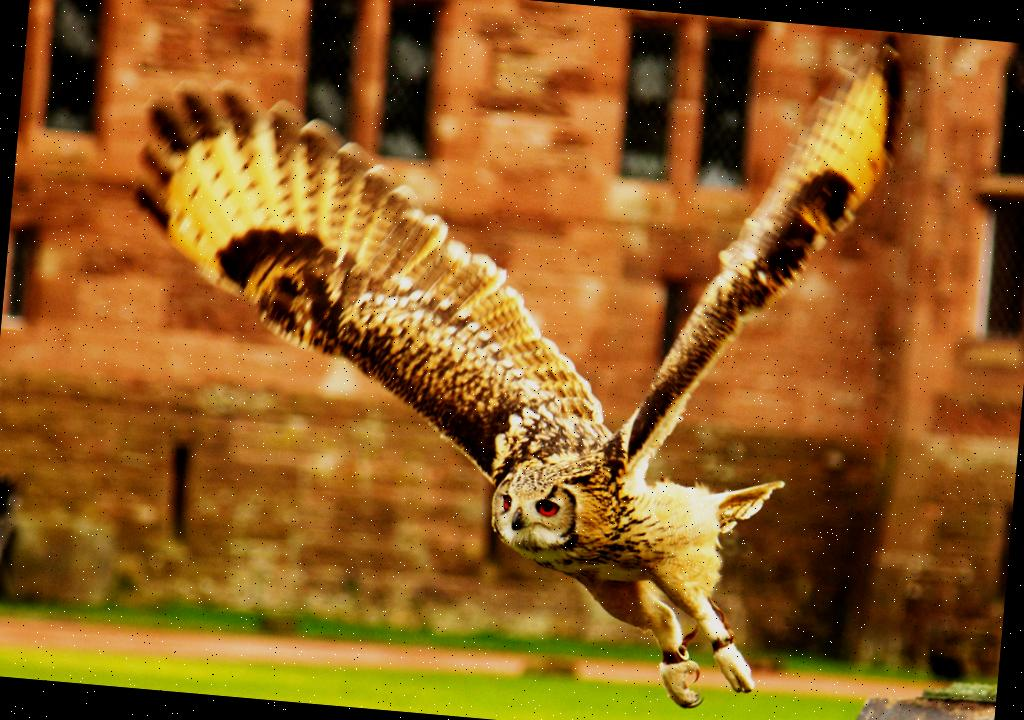Owl: (88, 0, 910, 720)
